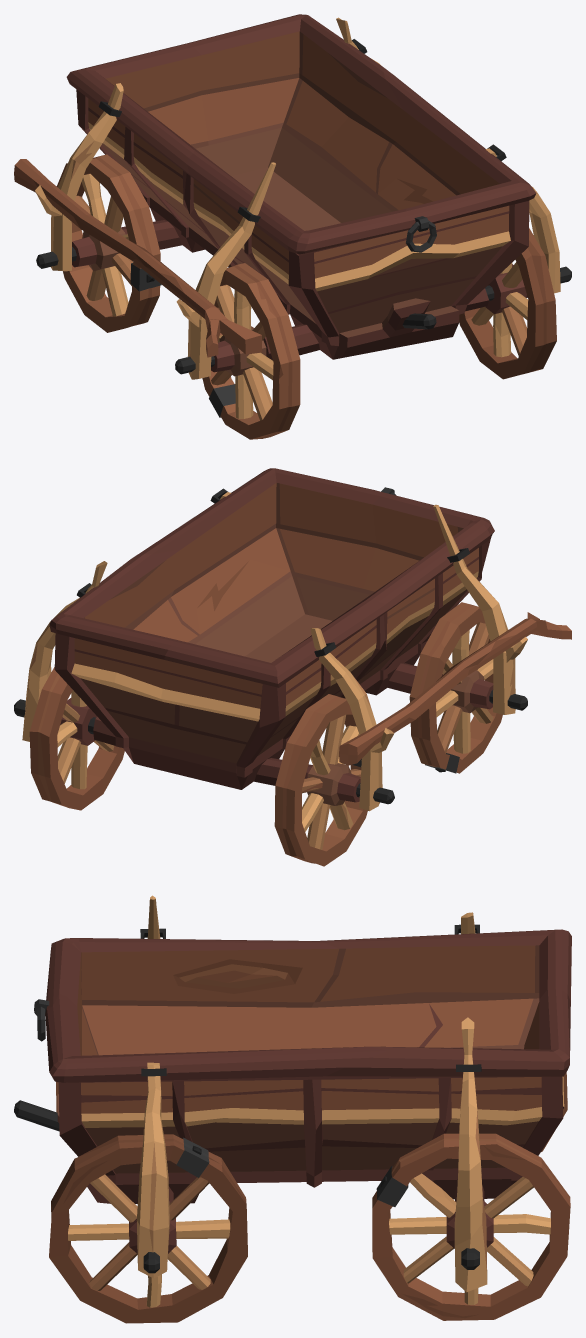
Rendered from cart_lowpoly.fbx.
3 renders of one model, top to bottom at view 1: azimuth 30°, elevation 25°; view 2: azimuth 150°, elevation 25°; view 3: azimuth 270°, elevation 25°, orthographic. The views are drawn at different scales.
Visible parts, largest first — view 1: cart, wheel_left, wheel_left.001, right wheel.004, shaft, springs_with_hook, springs_with_hook.001, springs; view 2: cart, wheel_left.001, wheel_left, right wheel.003, shaft, springs_with_hook, springs_with_hook.001, springs.001; view 3: cart, right wheel.004, right wheel.003, springs.001, springs, springs_with_hook.
Part boxes in pixels (box(x1,y1,x2,y2)): cart: box(66, 14, 536, 360); wheel_left: box(175, 263, 300, 439); wheel_left.001: box(36, 154, 161, 332); right wheel.004: box(459, 228, 571, 379); shaft: box(14, 159, 261, 357); springs_with_hook: box(176, 162, 275, 379); springs_with_hook.001: box(35, 83, 123, 271); springs: box(486, 144, 560, 293); cart: box(49, 468, 494, 789); wheel_left.001: box(274, 694, 394, 866); wheel_left: box(409, 602, 527, 773); right wheel.003: box(14, 667, 124, 810); shaft: box(339, 612, 571, 765); springs_with_hook: box(433, 504, 527, 714); springs_with_hook.001: box(310, 628, 394, 811); springs.001: box(22, 561, 107, 741); cart: box(14, 929, 571, 1203); right wheel.004: box(49, 1134, 247, 1323); right wheel.003: box(372, 1133, 570, 1320); springs.001: box(454, 1017, 487, 1292); springs: box(136, 1062, 169, 1278); springs_with_hook: box(140, 895, 165, 938).
Size of the model in its own units: 3.23 by 2.03 by 3.45.
